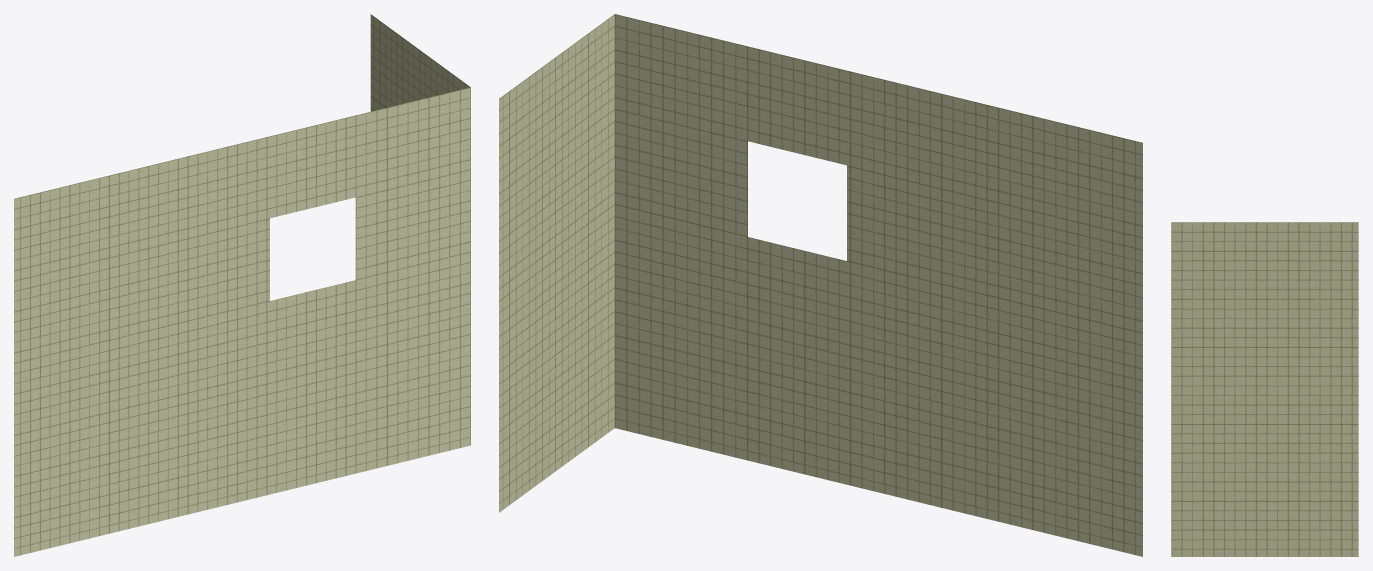
Rendered from wall_window.FBX.
3 renders of one model, left to right at view 1: azimuth 30°, elevation 25°; view 2: azimuth 150°, elevation 25°; view 3: azimuth 270°, elevation 25°, orthographic. The views are drawn at different scales.
Visible parts, largest first — view 1: pCube1; view 2: pCube1; view 3: pCube1.
Boxes of the visible parts, x1,y1,x2,y2 form: pCube1: [14, 14, 470, 556]; pCube1: [499, 14, 1142, 556]; pCube1: [1171, 222, 1358, 556].
Size of the model in its own units: 794 by 595 by 302.
Materials: 1 (1 with a texture image).
